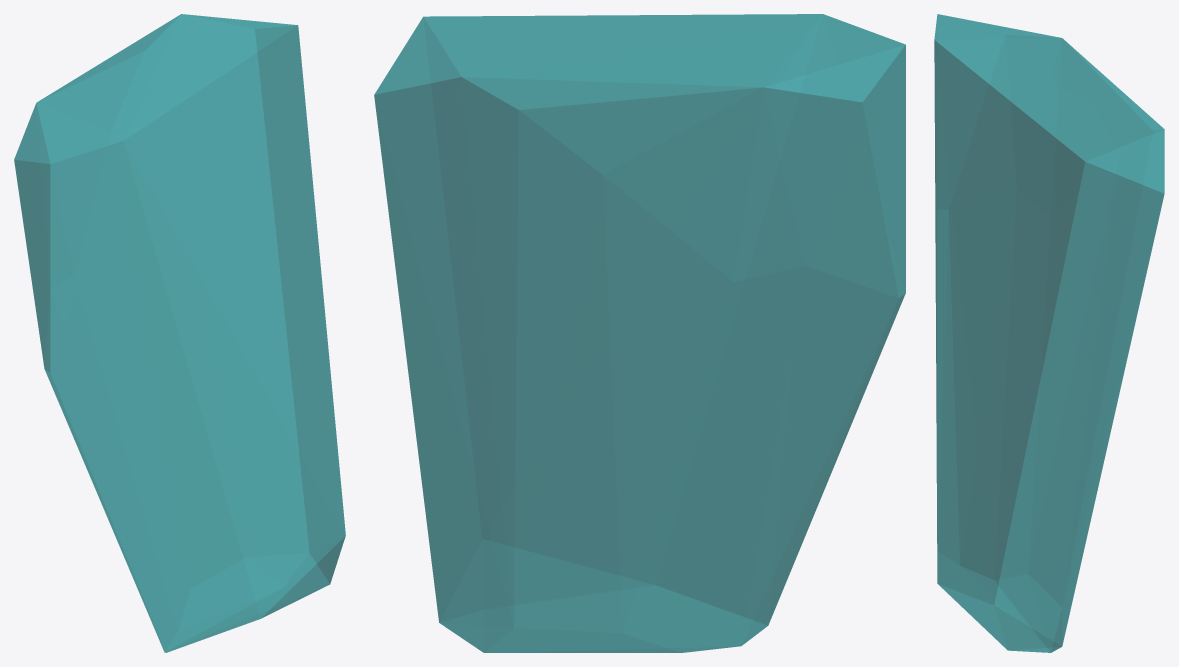
3 views of the same model, side by side, from view 1: azimuth 30°, elevation 25°; view 2: azimuth 150°, elevation 25°; view 3: azimuth 270°, elevation 25° (orthographic). The views are drawn at different scales.
Visible parts, largest first — view 1: Shape_IndexedFaceSet.026_Shape_IndexedFaceSet.4372; view 2: Shape_IndexedFaceSet.026_Shape_IndexedFaceSet.4372; view 3: Shape_IndexedFaceSet.026_Shape_IndexedFaceSet.4372.
Part boxes in pixels (bbox=[...]): Shape_IndexedFaceSet.026_Shape_IndexedFaceSet.4372: bbox=[14, 14, 345, 652]; Shape_IndexedFaceSet.026_Shape_IndexedFaceSet.4372: bbox=[374, 14, 905, 652]; Shape_IndexedFaceSet.026_Shape_IndexedFaceSet.4372: bbox=[934, 14, 1164, 652].
Bounding box in the file's own units: 0.1987 × 0.3173 × 0.1295.
